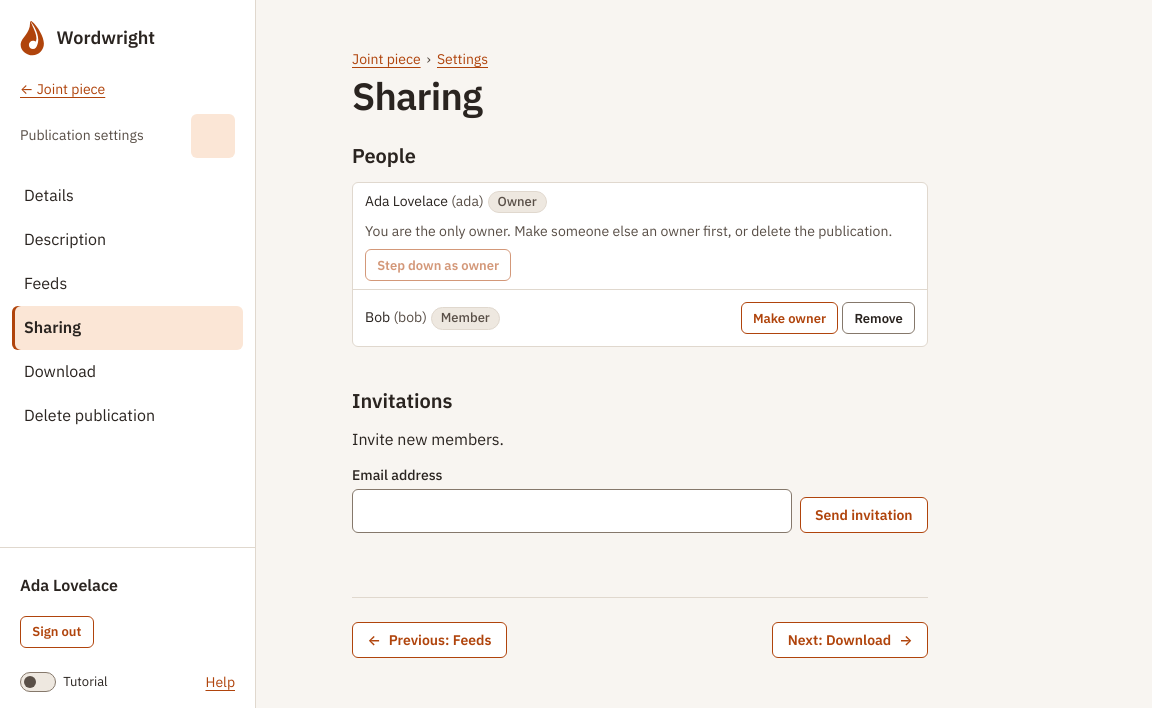
Test case: owners in the people list › asks what will change before making a member an owner, then does it
Click the button with aria-label "Make owner Bob": x=790, y=318 [741,302,838,334]
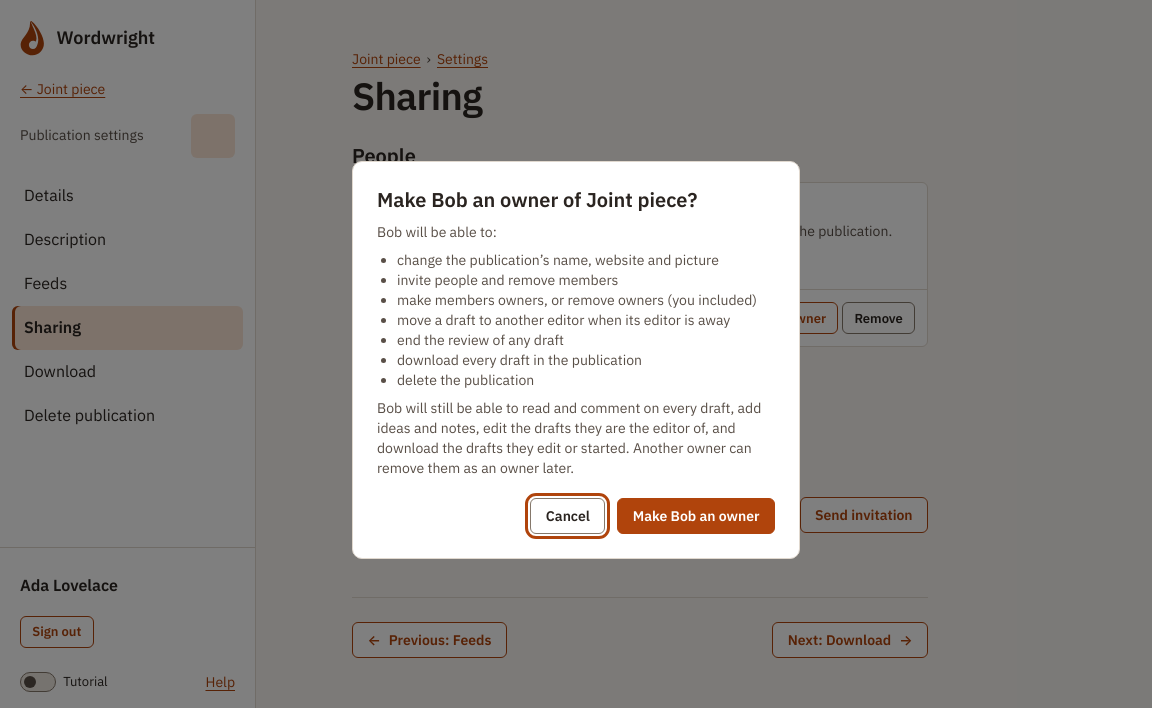
Expected: the text "Bob will be able to:" is shown, [377,223,497,241]
Expected: the list item "invite people and remove members" is shown, [397,271,618,289]
Click the button "Make Bob an owner": x=696, y=516 [617,498,775,534]
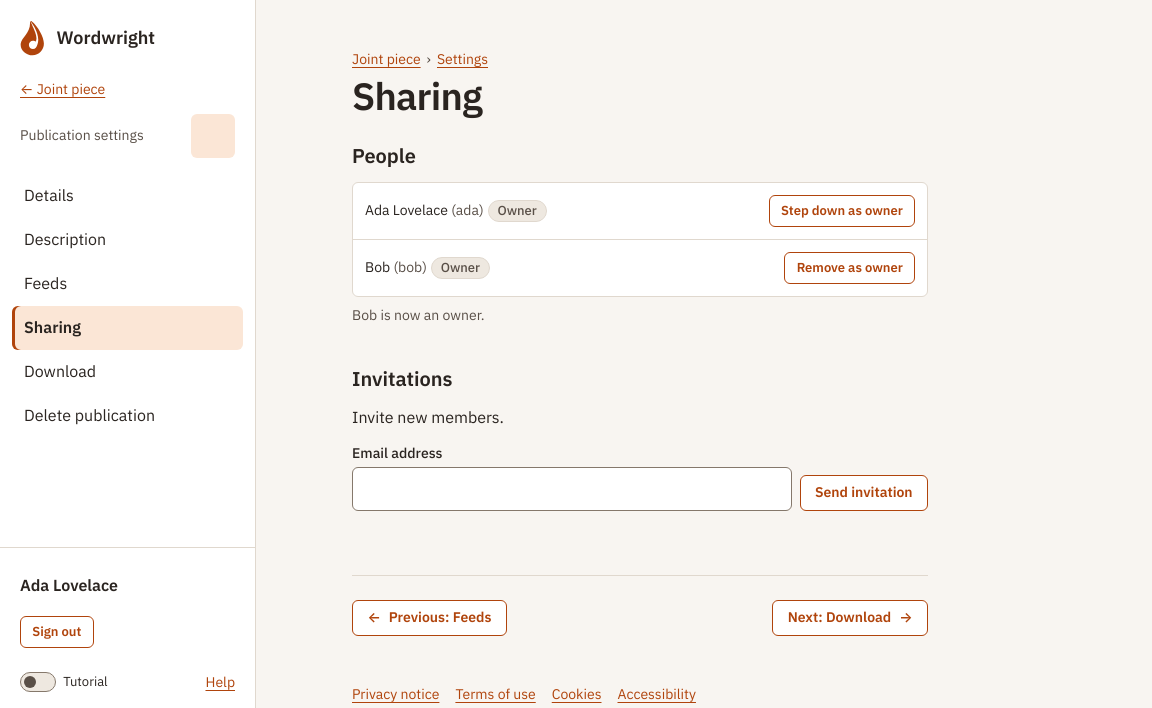
Expected: the button with aria-label "Remove as owner Bob" is shown, [784,252,915,284]
Expected: the dialog is gone
Expected: the text "Bob is now an owner." is shown, [352,306,484,324]
